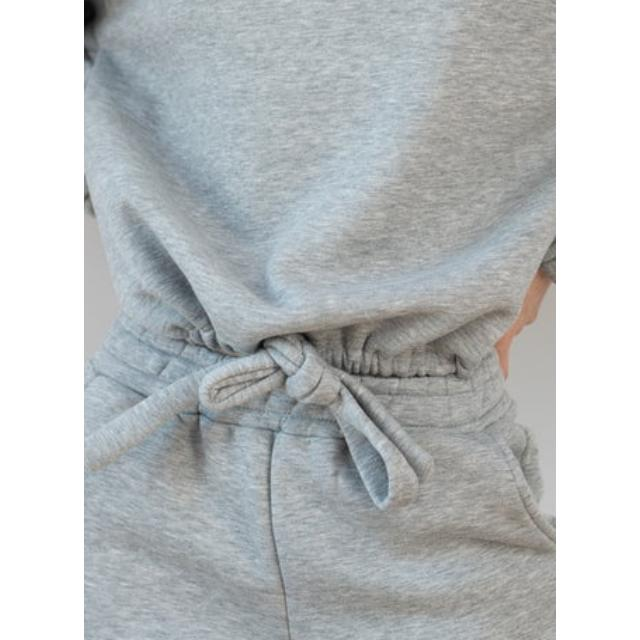cotton: (153, 0, 552, 640)
